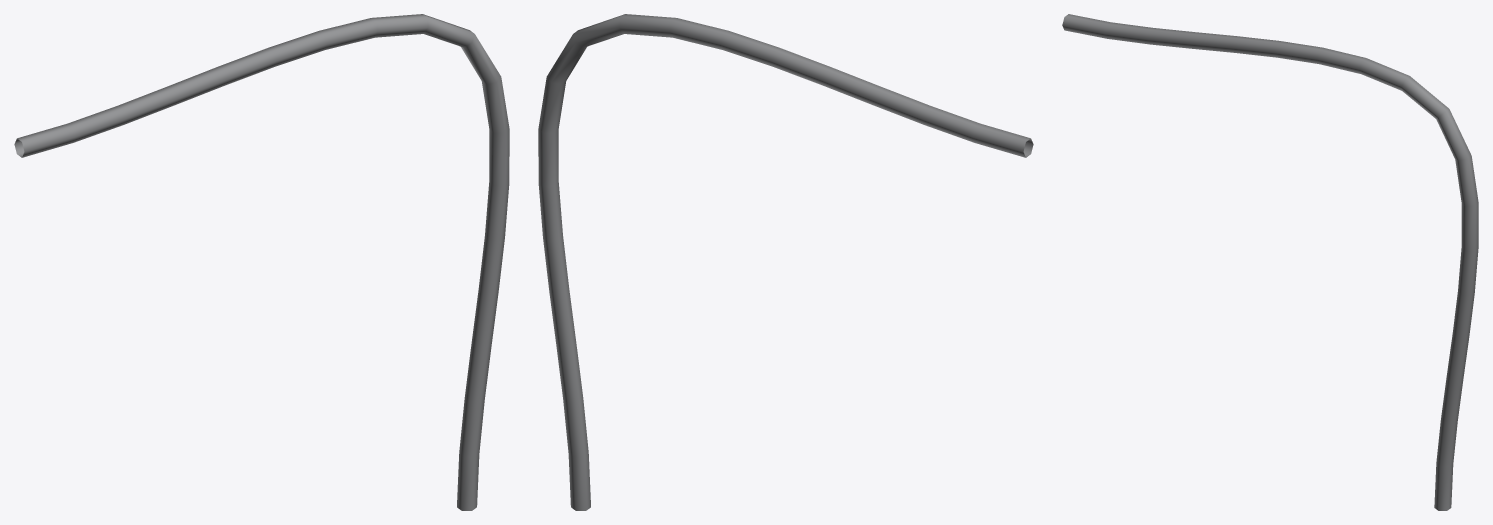
3 views of the same model, side by side, from view 1: azimuth 30°, elevation 25°; view 2: azimuth 150°, elevation 25°; view 3: azimuth 330°, elevation 25° (orthographic). The views are drawn at different scales.
Bounding box in the file's own units: 1.08 × 1.08 × 0.0389.
